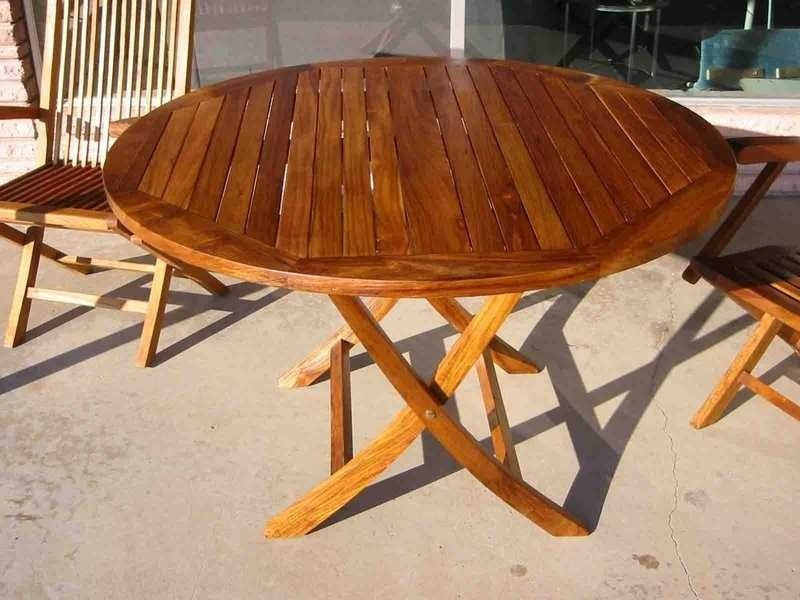obstacle: (104, 58, 735, 536)
